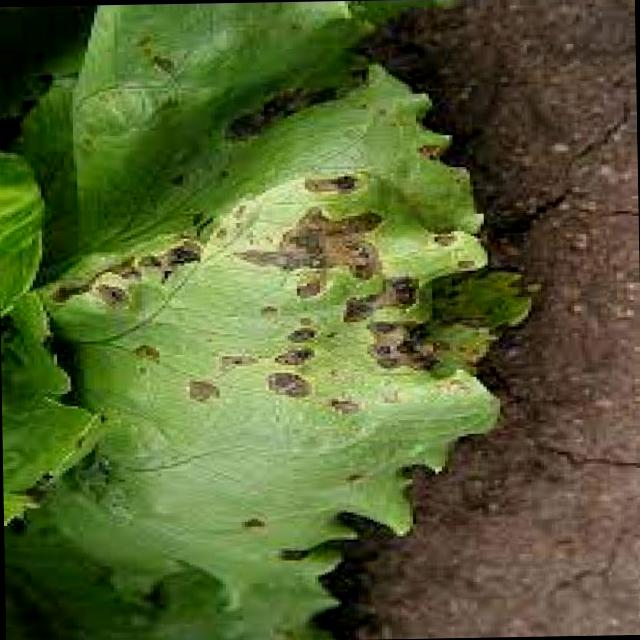Septoria_Blight: (118, 142, 433, 456)
